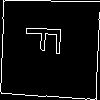F: (24, 24, 71, 57)
